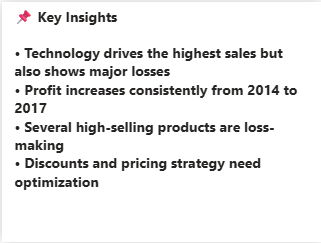

Layout of this report page (visuals, bound fields, positions):
{"tool":"powerbi","page":{"name":"Insights Tooltip","canvas":[320,240],"ordinal":1},"visuals":[{"type":"textbox","box":[8,0,296,224],"z":0}]}

Visuals, with their boxes in screenshot pixels (x1, y1, x2, y2), scaled from the page's 320x240 canvas onto the 321x243 screenshot:
textbox: 8/0/305/227
